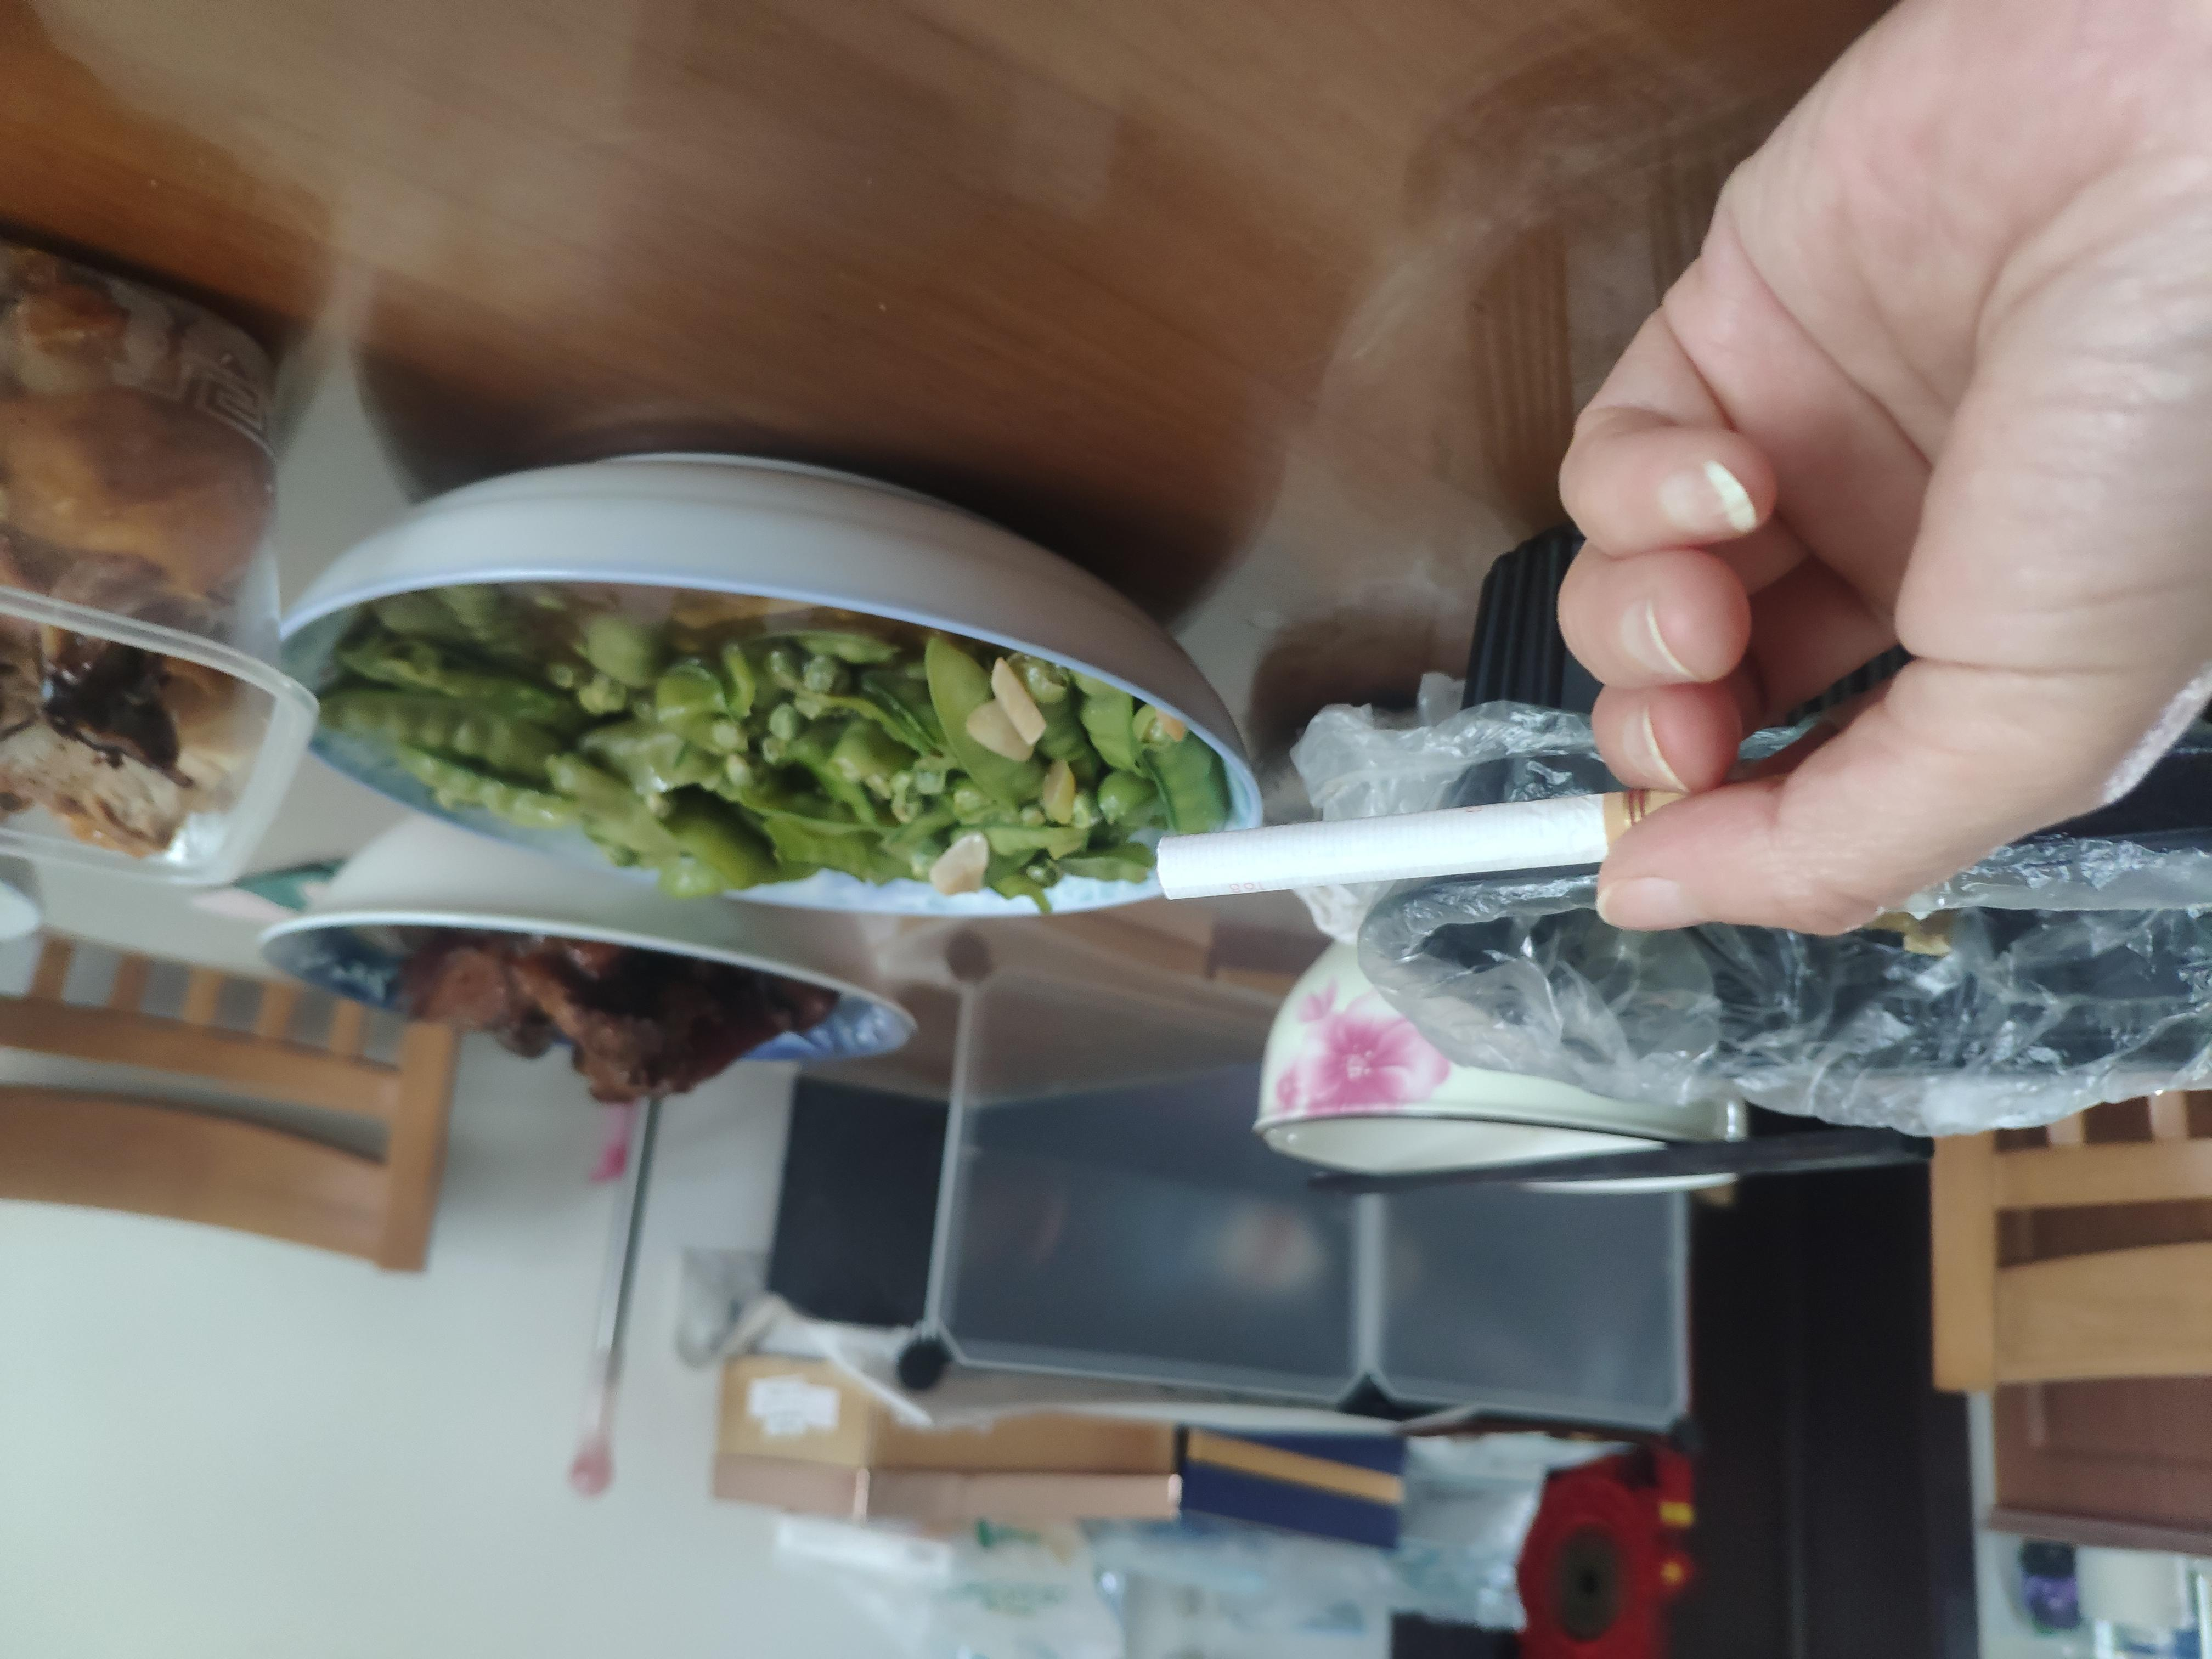smoke: (374, 760, 1060, 902)
